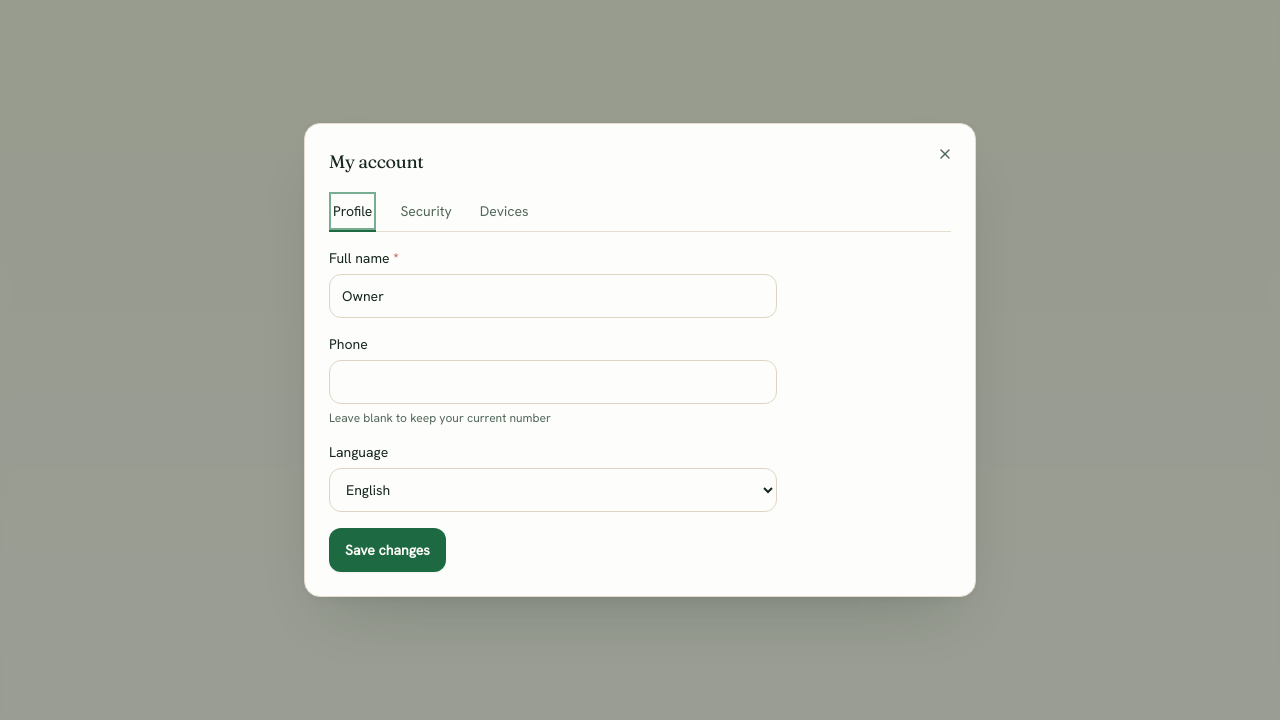
Test case: AccountDialog › lists sessions with device parsing + "this device" badge and revokes one after confirm
Click the tab "Devices" at (504, 212), box [476,192,533,232]
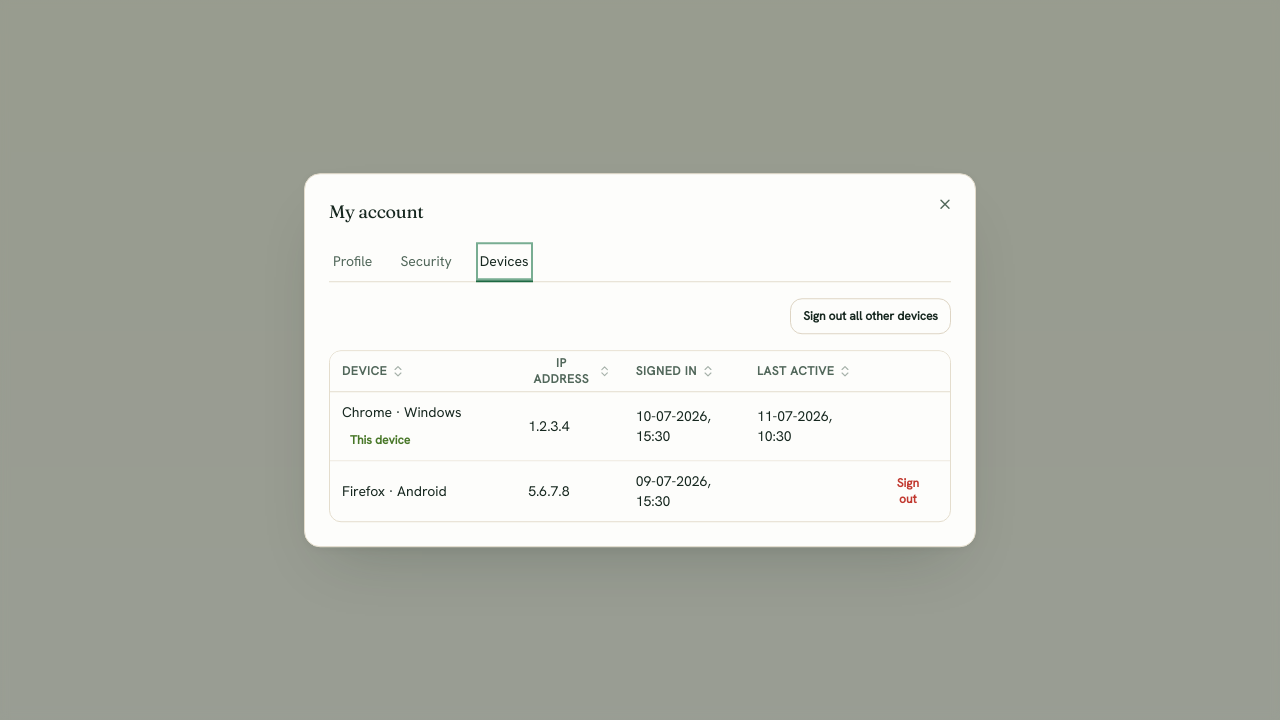
Result: the text "Chrome · Windows" is shown at [342,403,462,421]
Result: the text "Firefox · Android" is shown at [342,481,447,501]
Result: the text "This device" is shown at [350,432,410,448]
Click the button "Sign out" at (908, 491), box [878,473,938,509]
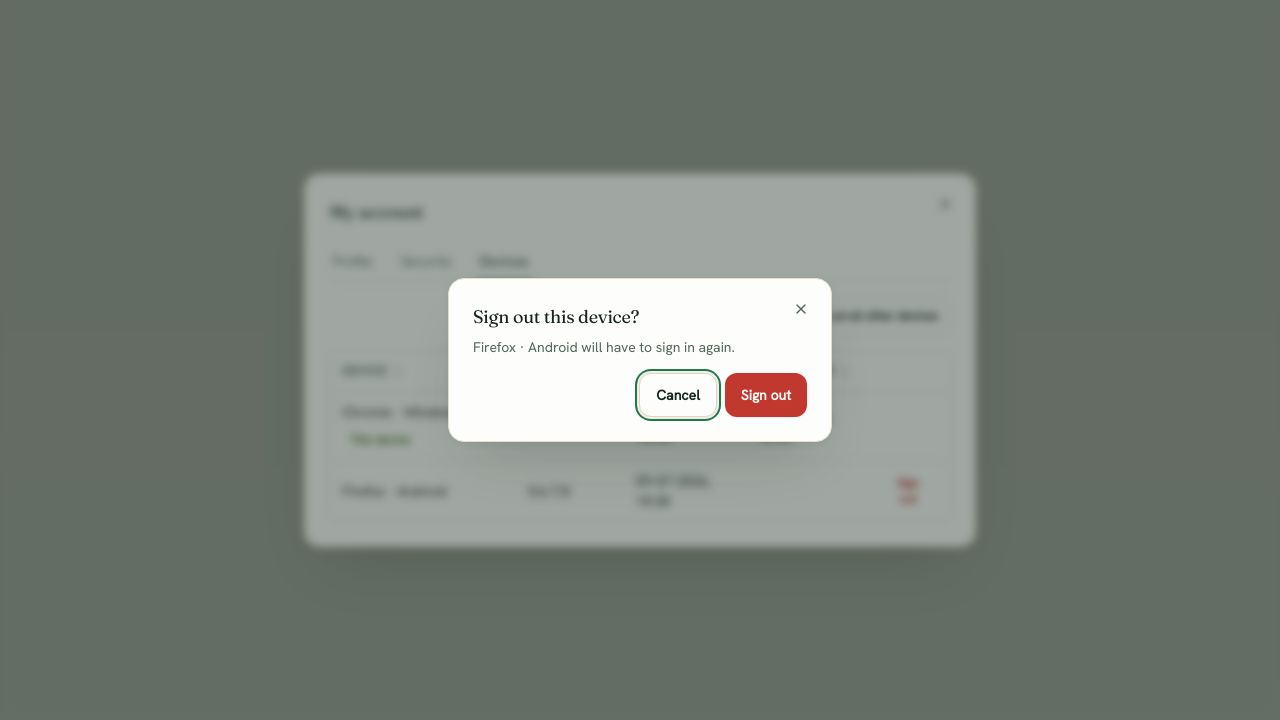
Result: the dialog that starts with "Sign out this device?" is shown at [448,278,832,442]
Click the button "Sign out" at (766, 395), box [725,373,807,417]
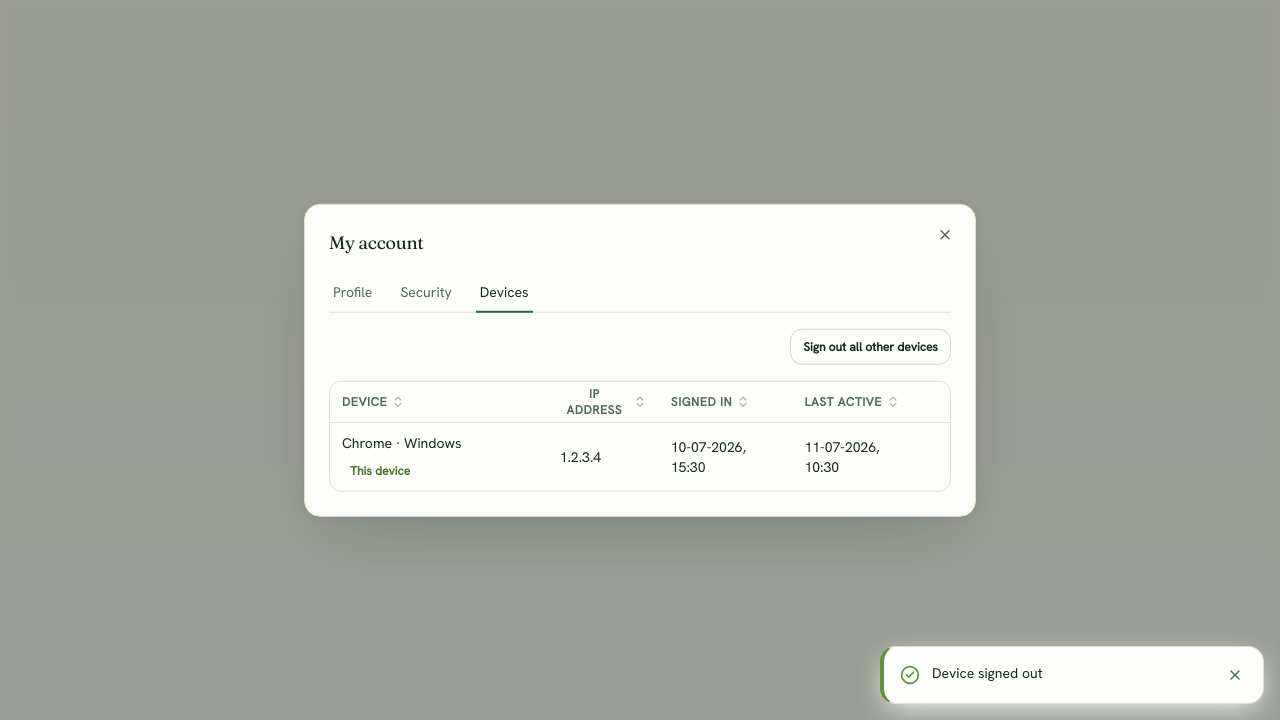
Result: the text "Device signed out" is shown at [932,664,1042,682]
